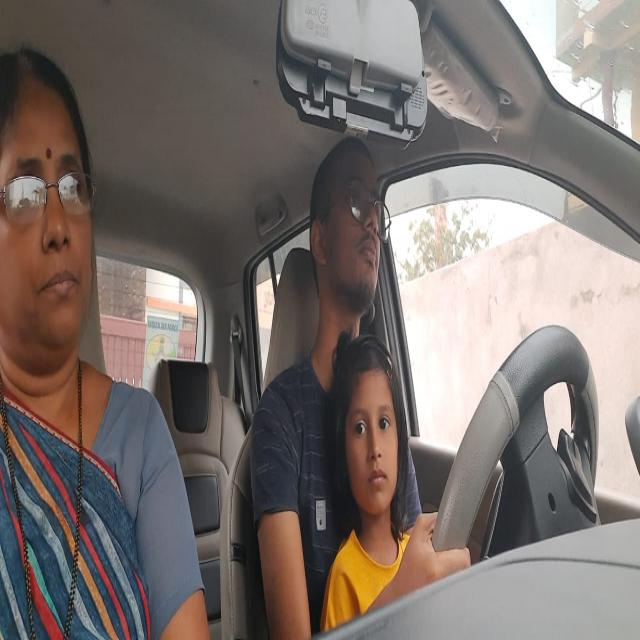child: (334, 333, 407, 535)
person: (2, 45, 98, 372), (310, 130, 390, 327)
